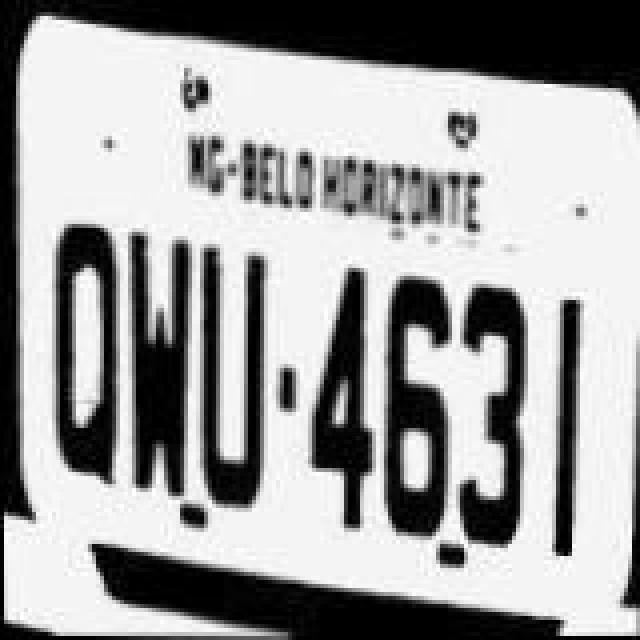1: (542, 300, 602, 556)
3: (452, 284, 532, 548)
4: (298, 262, 374, 542)
6: (374, 278, 458, 546)
Q: (44, 218, 136, 486)
U: (206, 258, 290, 534)
W: (130, 262, 206, 534)
